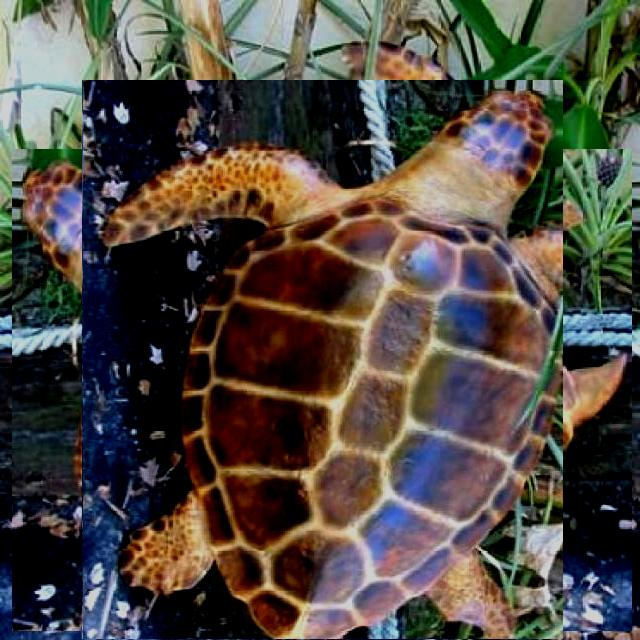Sea turtle: (46, 115, 597, 640)
